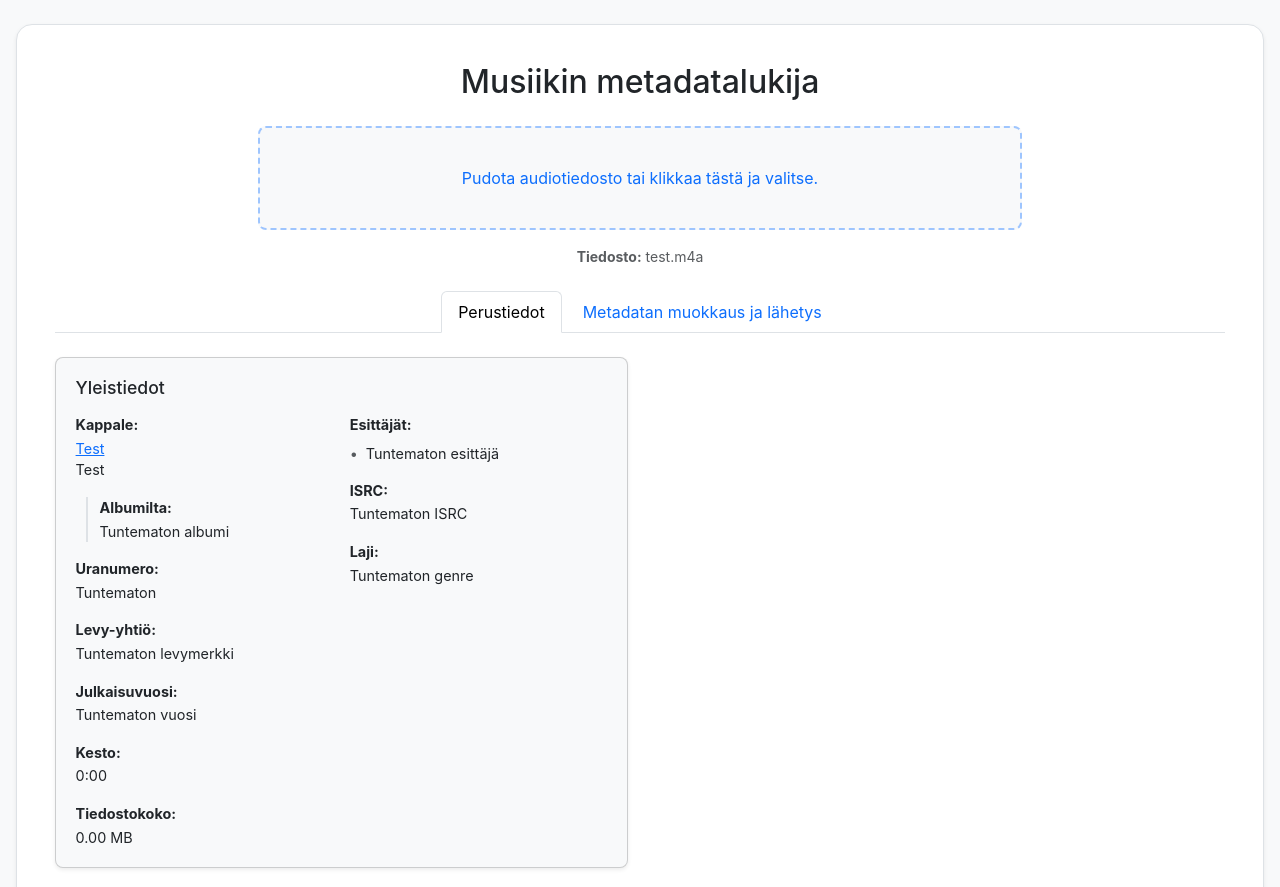
Test case: clarifies that metadata is only logged when no upstream is configured
Earlier steps of the test are not shown.
Step 1. Click the tab "Metadatan muokkaus ja lähetys" → (702, 312), box [566,291,839,333]
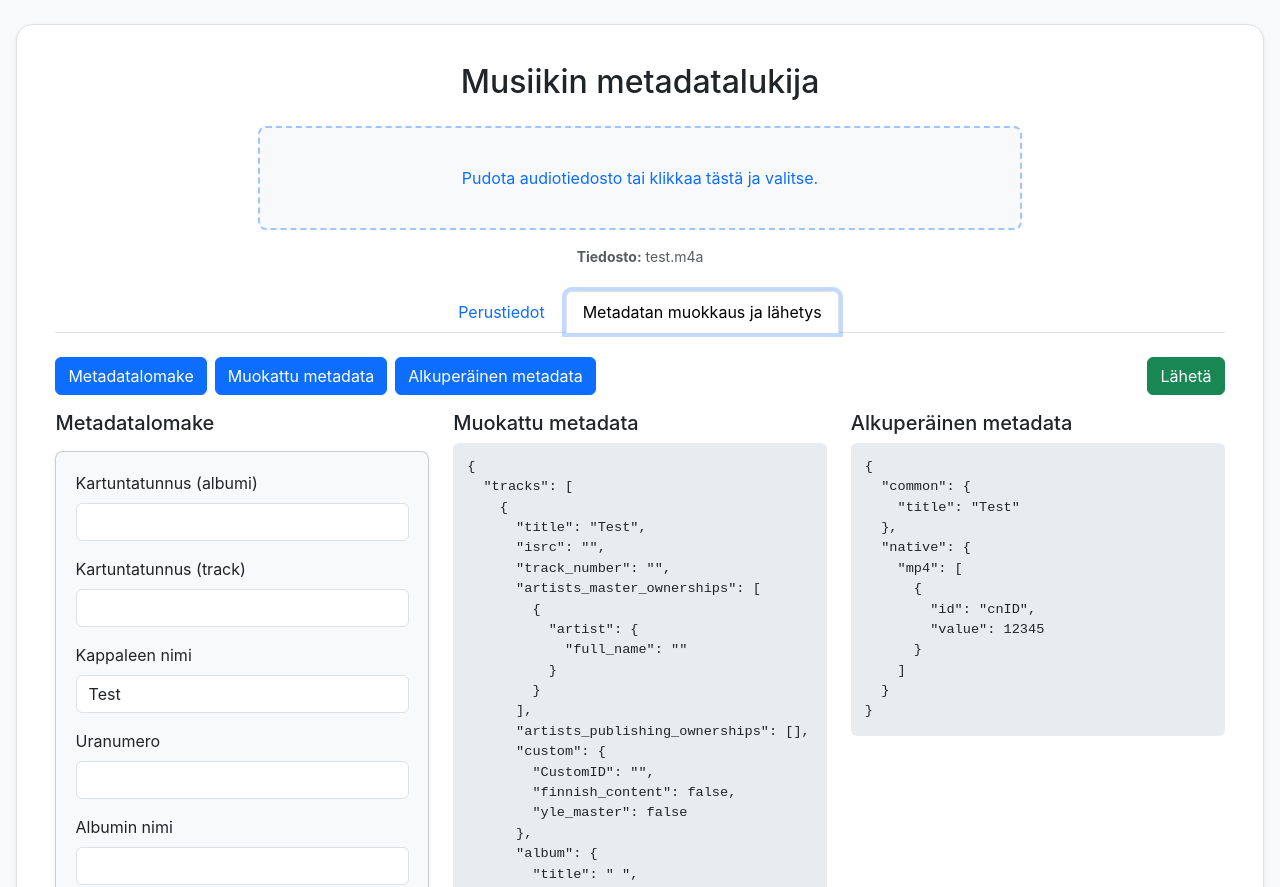
Step 2. Click the button "Lähetä" → (1186, 376), box [1148,357,1225,395]
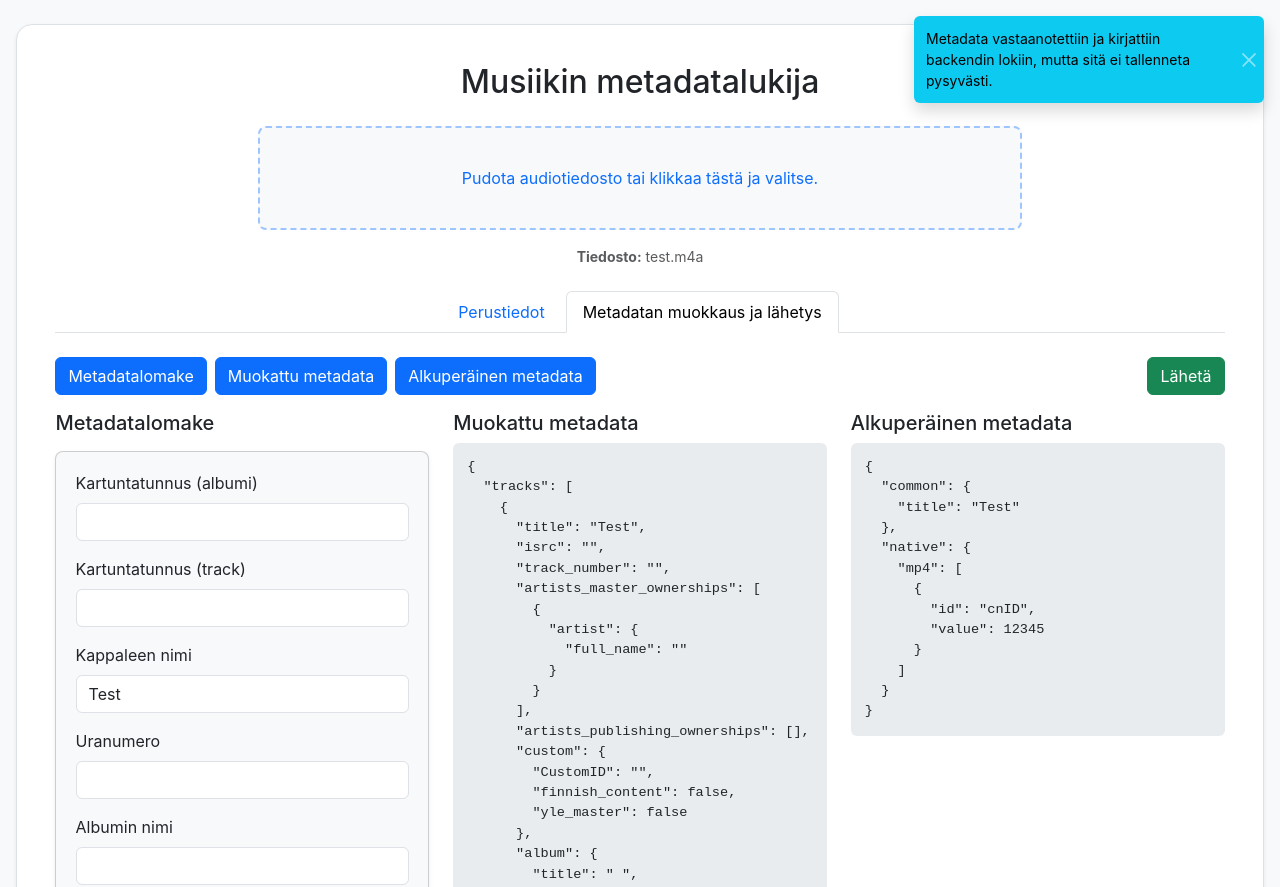
Now the message shows "Metadata vastaanotettiin ja kirjattiin backendin lokiin, mutta sitä ei tallenneta pysyvästi.", box [926,30,1190,89]
